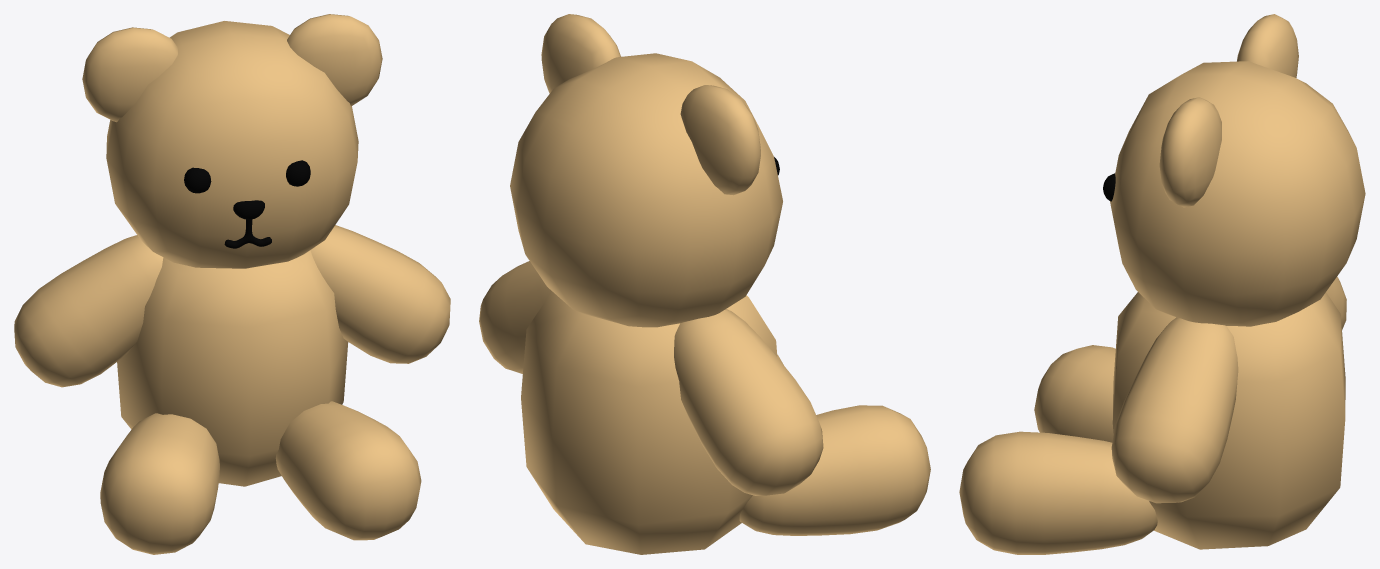
Rendered from teddyBear.fbx.
3 views of the same model, side by side, from view 1: azimuth 30°, elevation 25°; view 2: azimuth 150°, elevation 25°; view 3: azimuth 270°, elevation 25° (orthographic). The views are drawn at different scales.
Parts seen in each view (by area): view 1: Cube.077; view 2: Cube.077; view 3: Cube.077.
Part boxes in pixels (box(x1,y1,x2,y2)): Cube.077: box(14, 14, 450, 554); Cube.077: box(479, 14, 930, 554); Cube.077: box(959, 14, 1365, 554).
Bounding box in the file's own units: 112 × 129 × 101.
